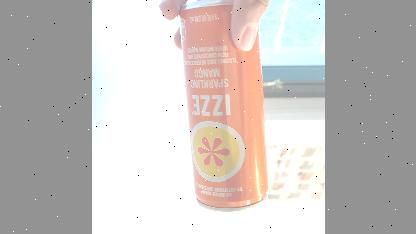Can: (174, 0, 270, 217)
